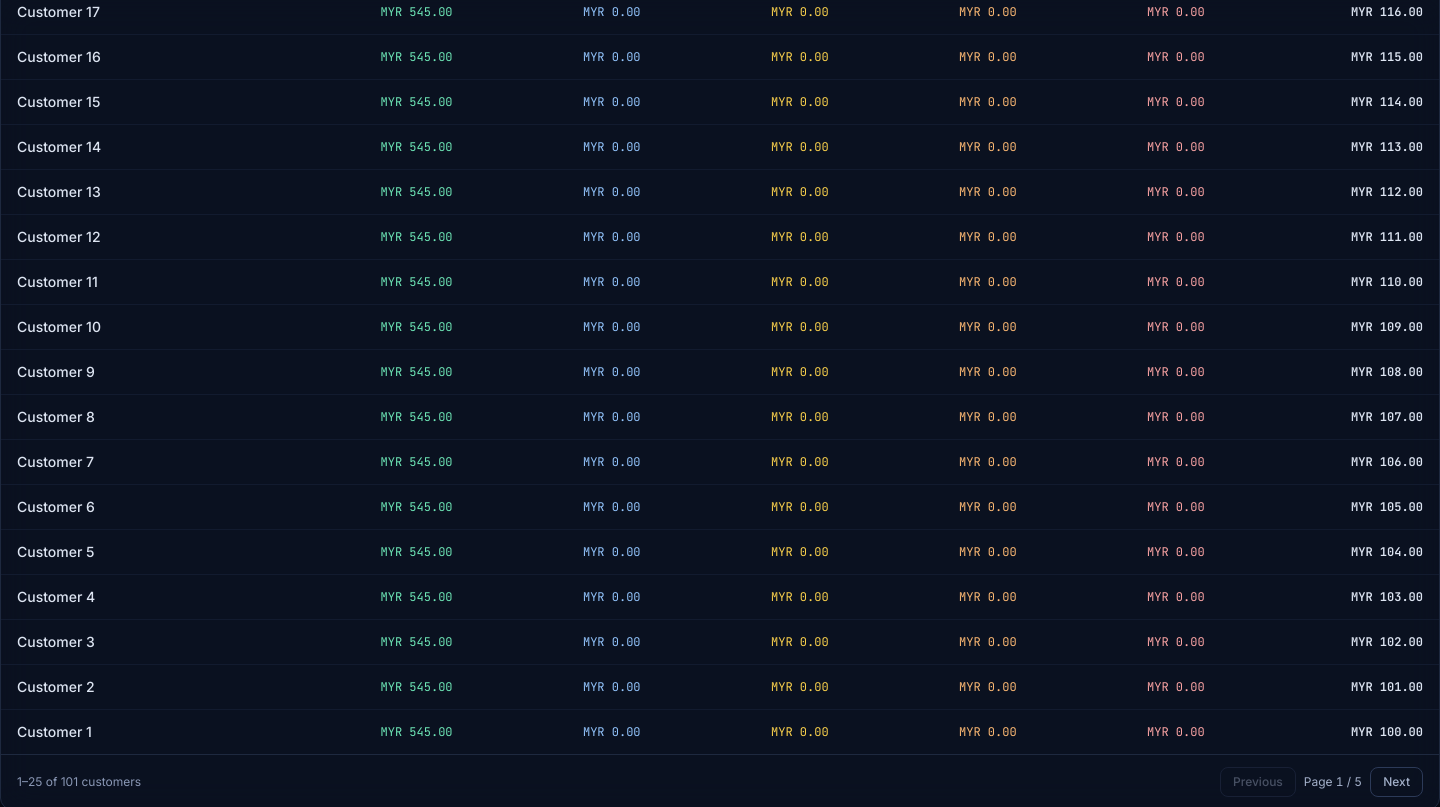
Test: Aging report — server pagination (B9DD-RR-001) › requests the correct server page when navigating to page 2
(page scrolled)
Expected: the link "Customer 1" is shown, top-left (17, 723), bottom-right (92, 740)
Step 1. Click the button "Next" → (1397,782), box top-left (1370, 767), bottom-right (1423, 797)
(page scrolled)
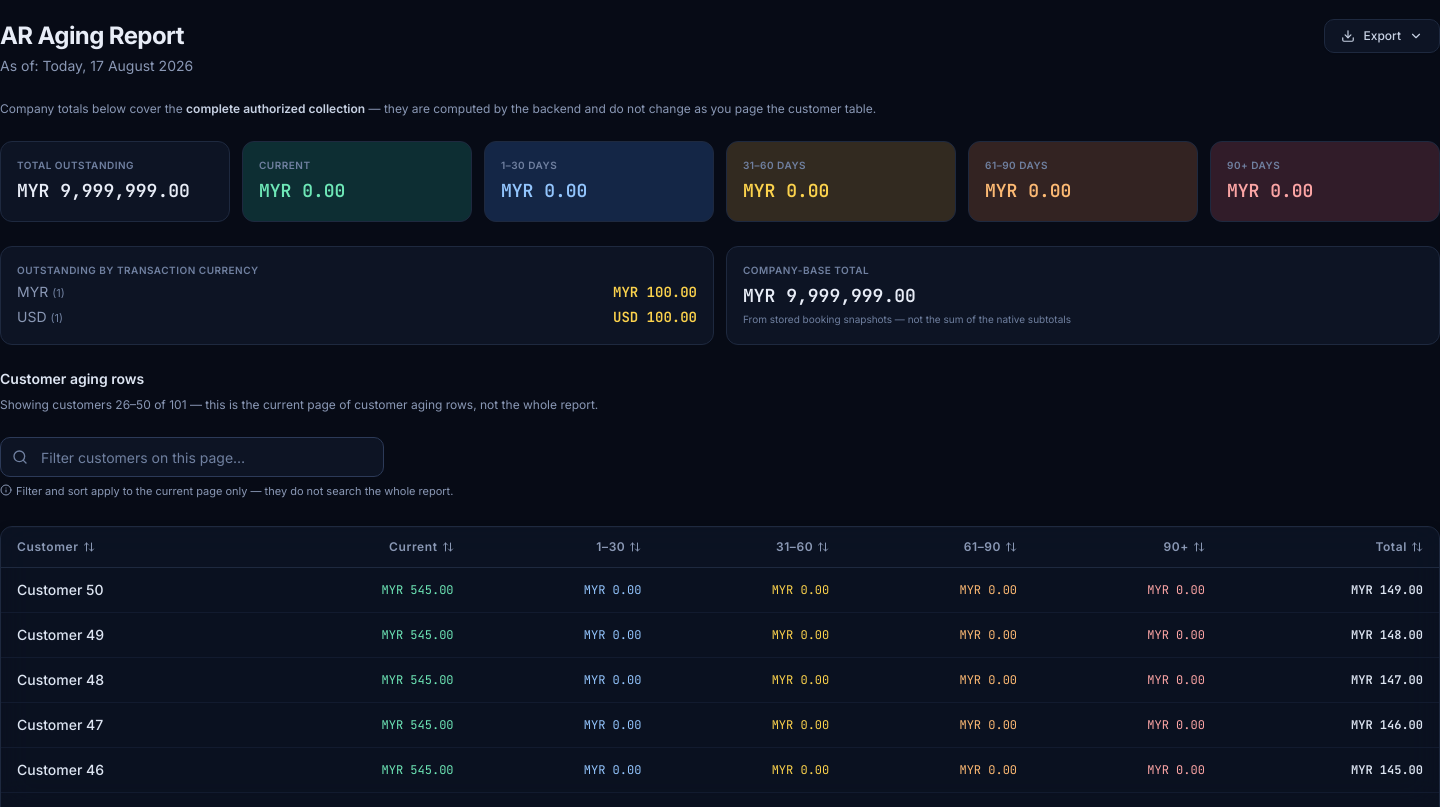
Result: the text "Showing customers 26–50 of 101" is shown at top-left (0, 397), bottom-right (598, 412)
Result: the link "Customer 1" is gone
